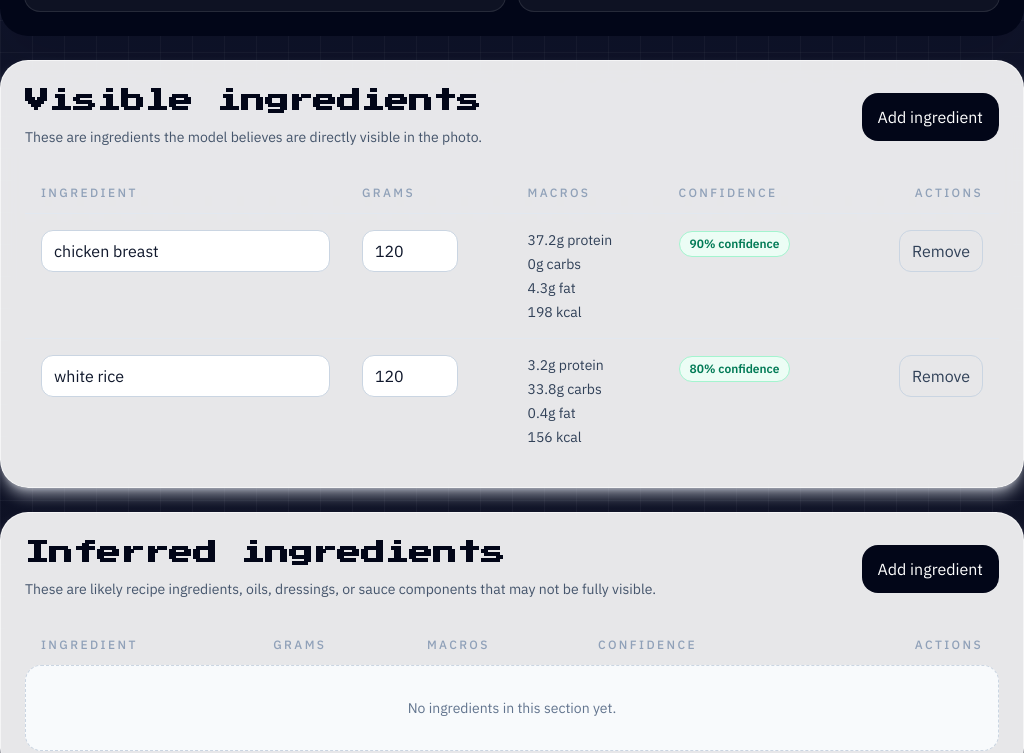
Scenario: ResultsEditor › updates the macro summary when grams change
(page scrolled)
Replace the text in the number field named "white rice grams" with "180" at [410, 376], box [362,355,458,397]
(page scrolled)
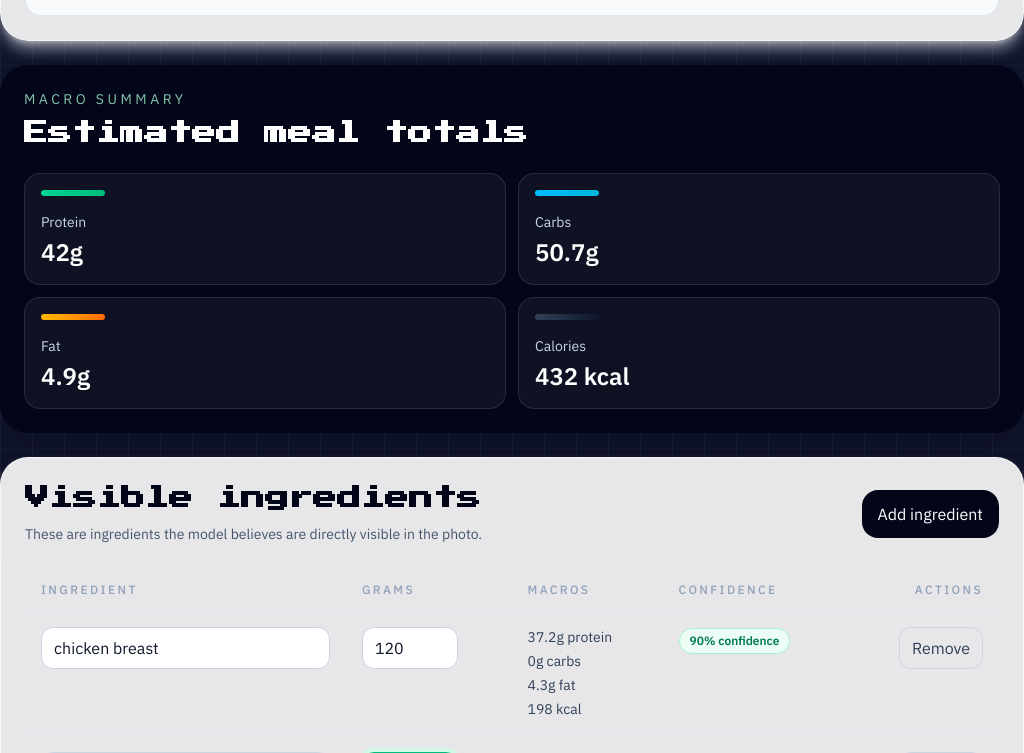
Result: the text "50.7g" is shown at [535,236,598,268]
Result: the text "432 kcal" is shown at [535,360,630,392]
